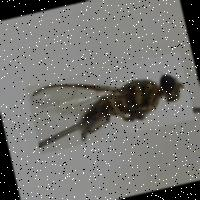Oriental-fruit-fly: (26, 51, 194, 154)
